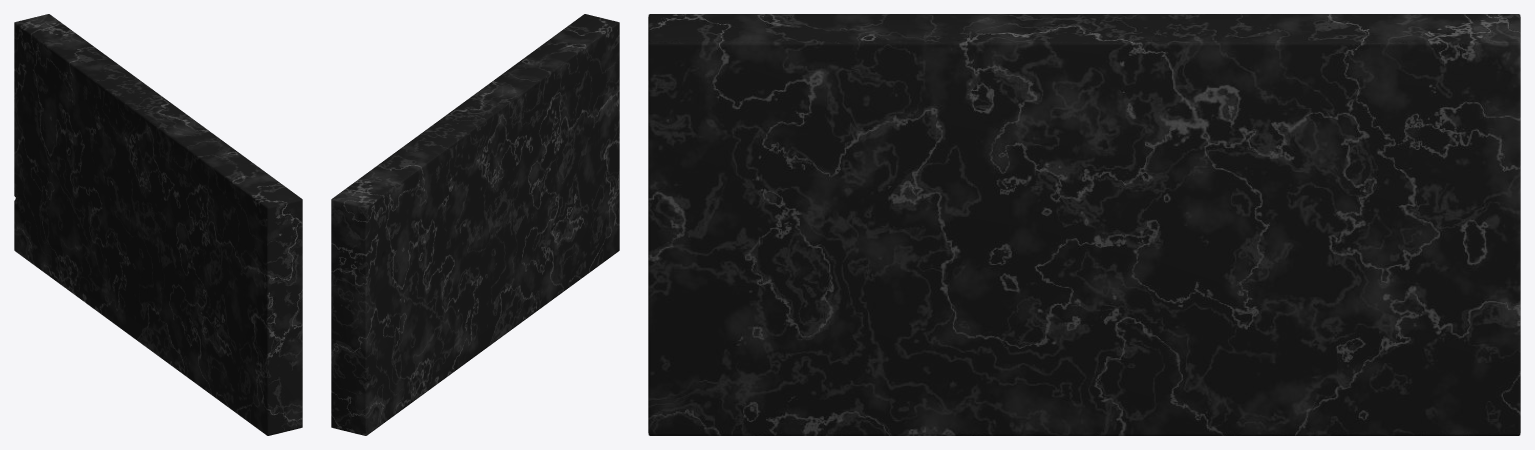
Rendered from statue_pedestal_latch.glb.
3 views of the same model, side by side, from view 1: azimuth 30°, elevation 25°; view 2: azimuth 150°, elevation 25°; view 3: azimuth 270°, elevation 25° (orthographic). The views are drawn at different scales.
Visible parts, largest first — view 1: pedestal_latch_Baked; view 2: pedestal_latch_Baked; view 3: pedestal_latch_Baked.
Part boxes in pixels (x1,y1,x2,y2): pedestal_latch_Baked: (14, 14, 302, 435); pedestal_latch_Baked: (331, 14, 619, 435); pedestal_latch_Baked: (648, 14, 1520, 435).
Size of the model in its own units: 0.2204 by 1.36 by 2.73.
1 material, 1 textured.
